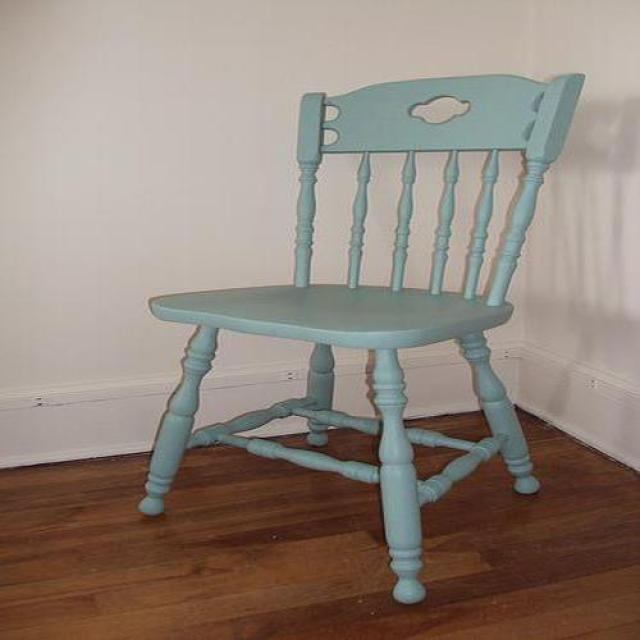chair: (138, 74, 586, 607)
